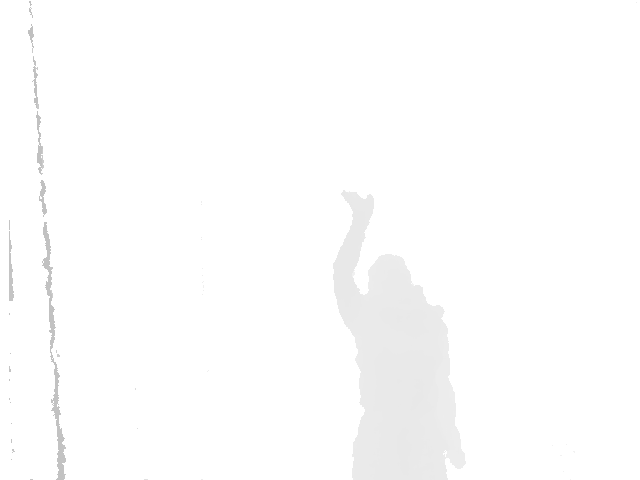hand: (340, 189, 377, 221)
head: (364, 253, 425, 303)
person: (331, 188, 468, 479)
